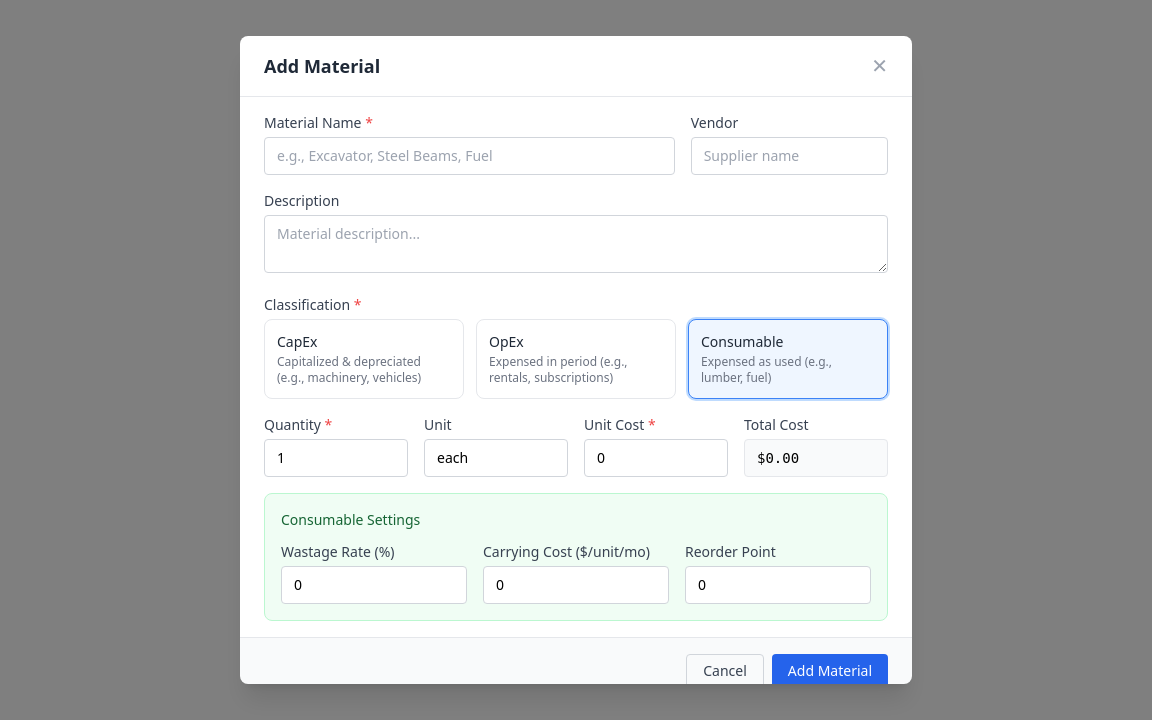
Test: MaterialEditorModal › shows validation error for empty name
The image size is (1152, 720).
// Click the save button in the footer (last button with "Add Material")
Click the button "Add Material".
click(830, 671)  # box [772,654,888,688]
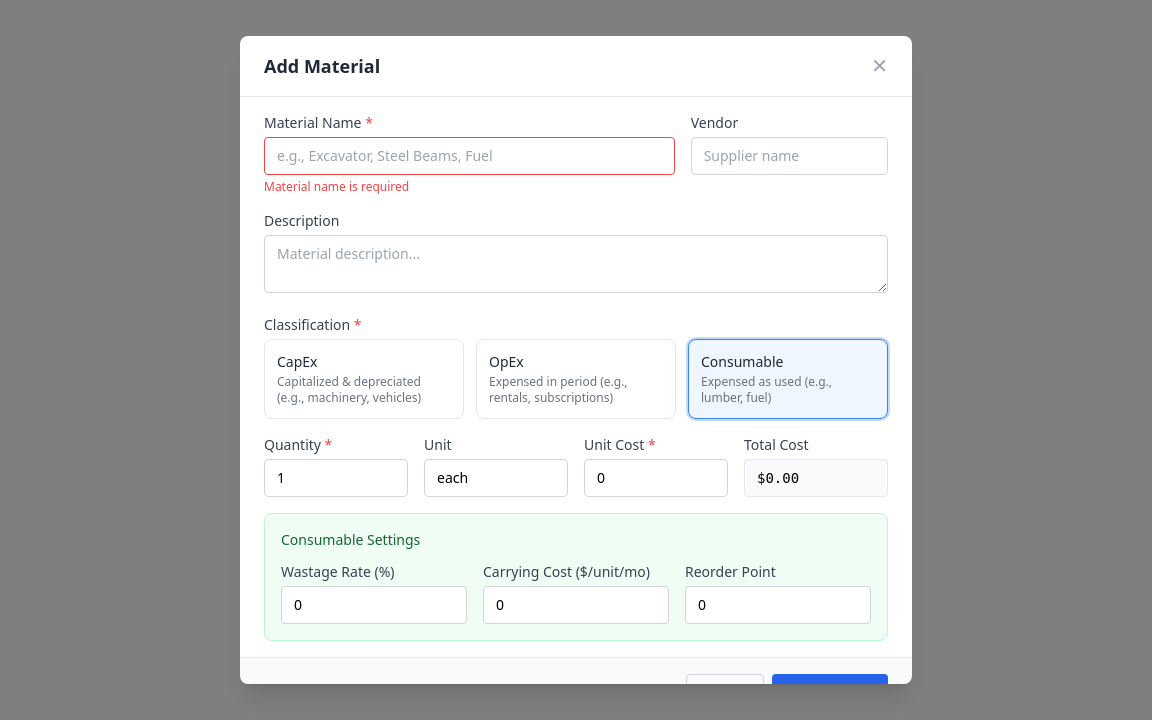
Result: the text "Material name is required" is shown at [264,178,409,195]
